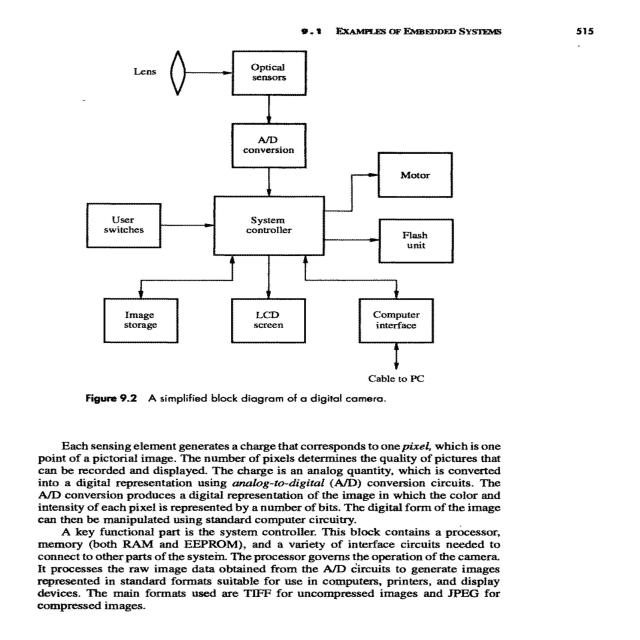diagram: (29, 43, 512, 422)
